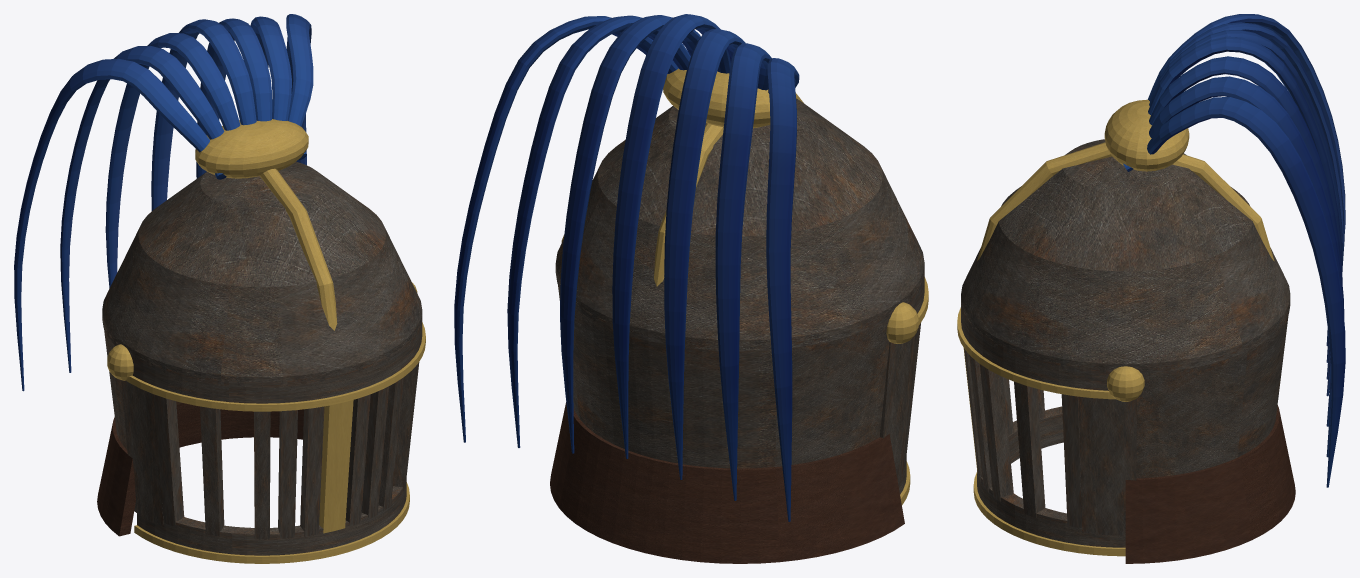
The model's file is heavy.obj.
The picture shows the model from 3 angles, left to right: view 1: azimuth 30°, elevation 25°; view 2: azimuth 150°, elevation 25°; view 3: azimuth 270°, elevation 25°; orthographic projection. The views are drawn at different scales.
Visible parts, largest first — view 1: hollow_crown, plume_0, brow, lower_visor, plume_1, plume_2, neck_curtain, plume_mount, plume_3, left_cheek, visor_bar_3, crown_ridge (+16 smaller); view 2: hollow_crown, neck_curtain, rear_shell, plume_1, plume_2, plume_0, plume_3, plume_4, plume_5, plume_6, left_cheek, plume_mount (+2 smaller); view 3: hollow_crown, rear_shell, neck_curtain, plume_6, right_cheek, plume_5, lower_visor, plume_4, plume_3, crown_ridge, plume_mount, brow (+11 smaller).
Part boxes in pixels (x1,y1,x2,y2): hollow_crown: (102,161,422,386); plume_0: (14,58,226,391); brow: (129,315,422,403); lower_visor: (137,478,406,555); plume_1: (60,45,224,372); plume_2: (105,33,240,288); neck_curtain: (97,403,303,536); plume_mount: (195,119,308,178); plume_3: (151,19,256,210); left_cheek: (118,344,163,527); visor_bar_3: (319,400,353,533); crown_ridge: (259,168,337,330); hollow_crown: (555,98,924,351); neck_curtain: (550,402,904,563); rear_shell: (556,270,892,468); plume_1: (715,43,771,500); plume_2: (664,28,745,479); plume_0: (766,58,799,521); plume_3: (612,14,730,458); plume_4: (560,15,700,453); plume_5: (507,15,690,447); plume_6: (454,16,678,442); left_cheek: (879,285,919,483); plume_mount: (663,68,770,128); hollow_crown: (961,139,1290,373); rear_shell: (1136,304,1289,478); neck_curtain: (1125,405,1295,563); plume_6: (1123,97,1345,487); right_cheek: (1077,366,1137,535); plume_5: (1149,76,1344,457); lower_visor: (977,406,1125,547); plume_4: (1149,56,1342,426); plume_3: (1148,36,1342,396); crown_ridge: (977,142,1274,261); plume_mount: (1104,99,1189,171); brow: (961,301,1114,390).
Size of the model in its own units: 81.27 by 112 by 86.99.
Materials: 5 (5 with a texture image).
